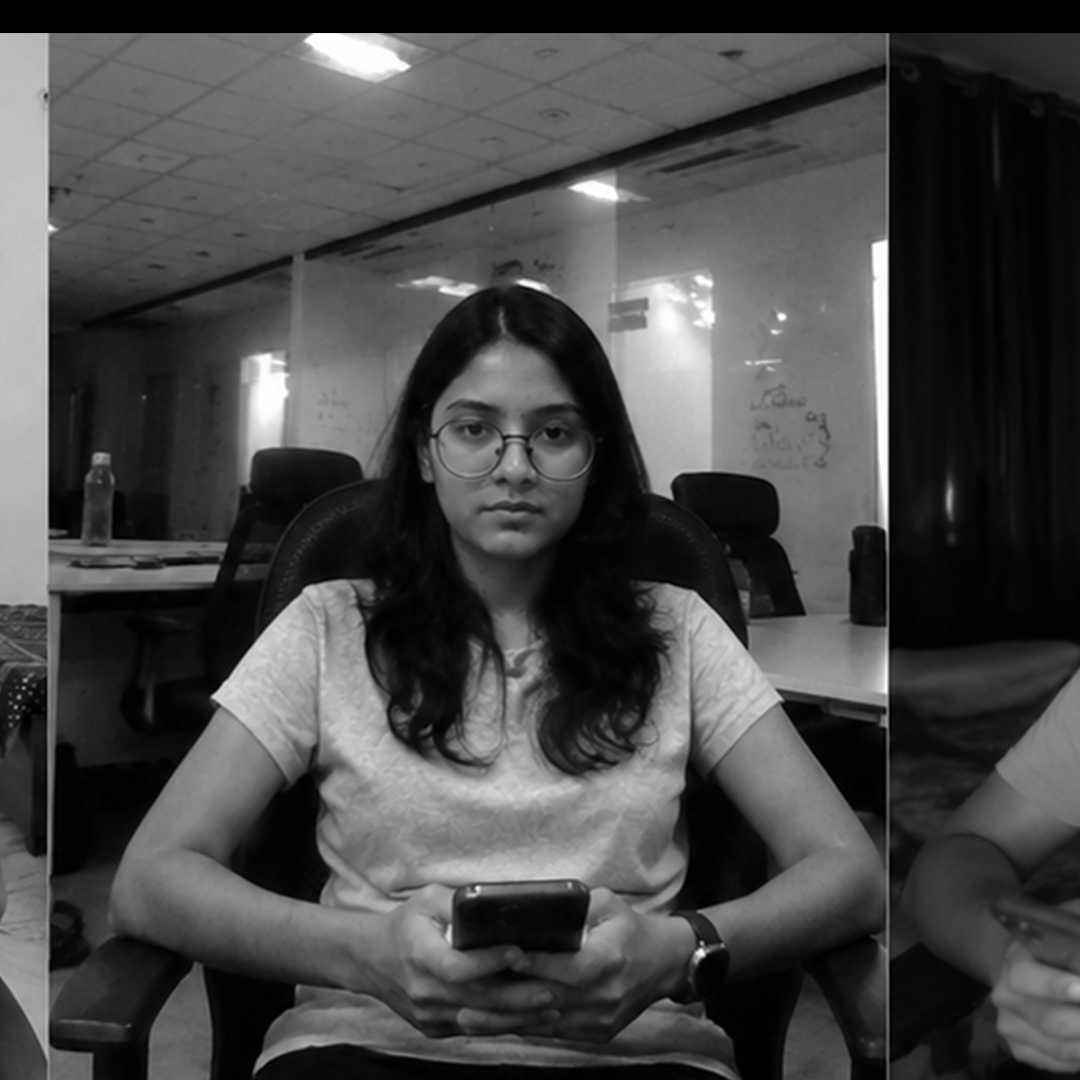Focused: (349, 261, 742, 1000)
